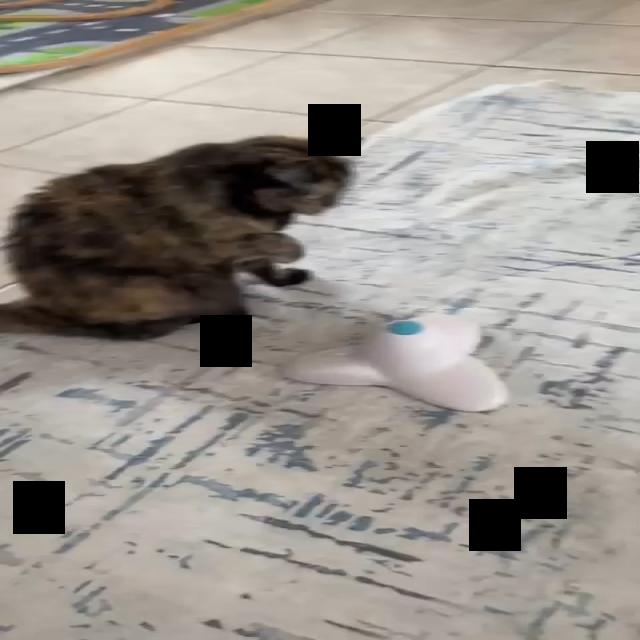authorized: (0, 134, 364, 340)
